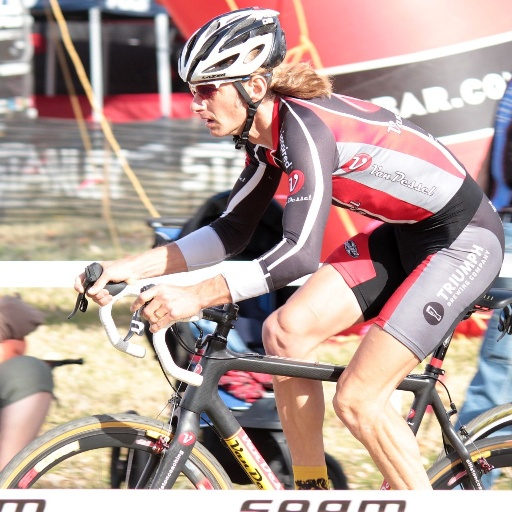hand: (126, 283, 201, 331), (74, 257, 134, 306)
